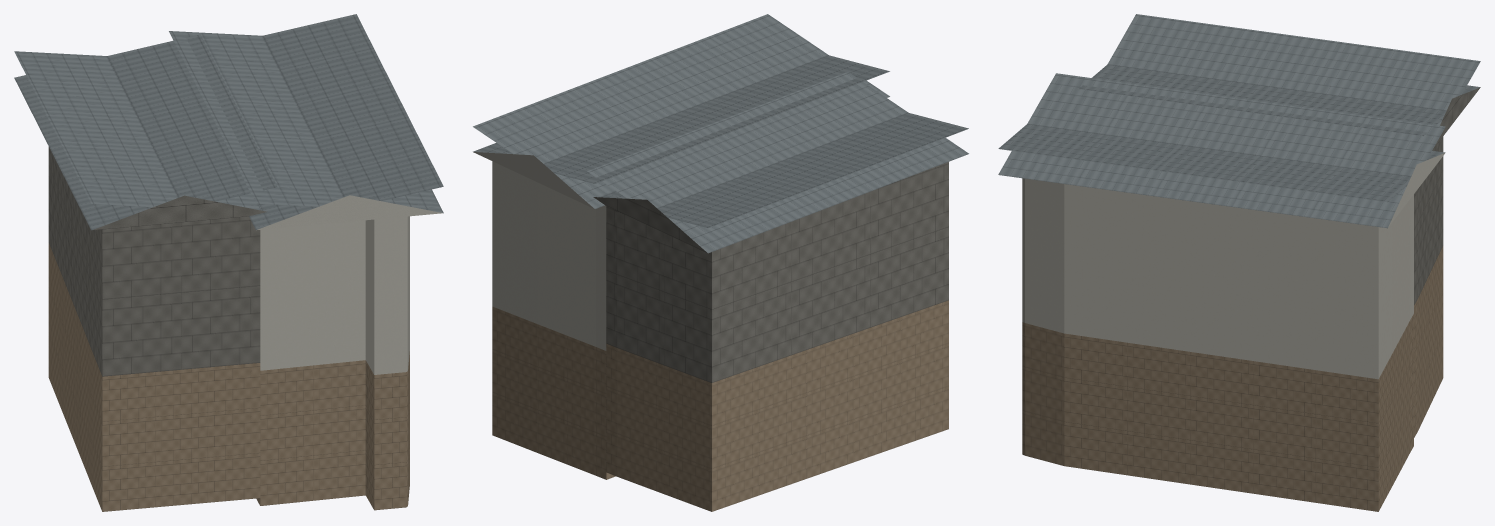
File: bld_c1_10_488.gltf
The picture shows the model from 3 angles, left to right: view 1: azimuth 30°, elevation 25°; view 2: azimuth 150°, elevation 25°; view 3: azimuth 270°, elevation 25°; orthographic projection. The views are drawn at different scales.
Visible parts, largest first — view 1: bld_c1_10_488; view 2: bld_c1_10_488; view 3: bld_c1_10_488.
Boxes of the visible parts, x1,y1,x2,y2 form: bld_c1_10_488: [14, 14, 443, 511]; bld_c1_10_488: [473, 14, 968, 511]; bld_c1_10_488: [998, 14, 1480, 511].
Bounding box in the file's own units: 15.53 × 12.2 × 16.82.
6 materials, 6 textured.
